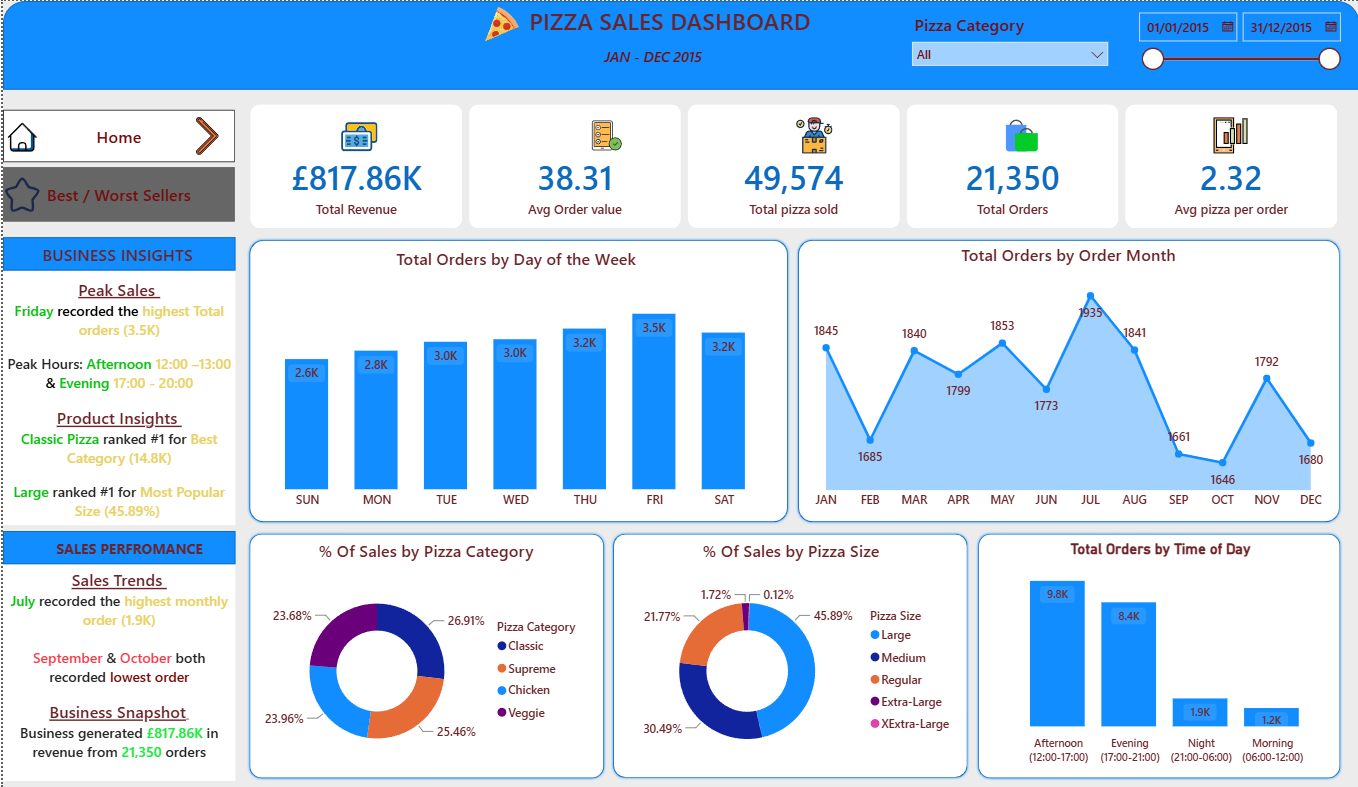

The dashboard page shown, as its layout file describes it:
{"tool":"powerbi","page":{"name":"Home","canvas":[1550,900],"ordinal":0},"visuals":[{"type":"cardVisual","fields":{"Data":["pizza_db pizza_sales.Total Revenue","pizza_db pizza_sales.Avg Order value","pizza_db pizza_sales.Total pizza sold","pizza_db pizza_sales.Total Orders","pizza_db pizza_sales.Avg pizza per order"]},"box":[265.7,101.4,1277.1,175.7],"z":0},{"type":"shape","box":[0,0,1550,101.4],"z":1000},{"type":"textbox","box":[570,0,384.3,47.1],"z":2000},{"type":"textbox","box":[662.9,47.1,160,37.1],"z":3000},{"type":"shape","box":[278.6,270,621.4,328.6],"z":4000},{"type":"columnChart","title":"Total Orders by Day of the Week","fields":{"Category":["pizza_db pizza_sales.Order day"],"Y":["pizza_db pizza_sales.Total Orders"]},"box":[285.7,281.4,601.4,308.6],"z":5000},{"type":"shape","box":[905.7,270,625,328.6],"z":6000},{"type":"areaChart","title":"Total Orders by Month","fields":{"Category":["pizza_db pizza_sales.Order Month"]},"box":[945.7,285.7,574.3,292.9],"z":7000},{"type":"shape","box":[278.6,605.7,411.4,285.7],"z":8000},{"type":"shape","box":[694.3,605.7,411,285],"z":9000},{"type":"shape","box":[1111.4,605.7,420,285.7],"z":10000},{"type":"donutChart","title":"% Of Sales by Pizza Category","fields":{"Category":["pizza_db pizza_sales.pizza_category"],"Y":["pizza_db pizza_sales.Total Revenue"]},"box":[285.7,615.7,395.7,264.3],"z":11000},{"type":"donutChart","title":"% Of Sales by Pizza Size","fields":{"Y":["pizza_db pizza_sales.Total Revenue"],"Category":["pizza_db pizza_sales.pizza_size"]},"box":[705.7,615.7,390,264.3],"z":12000},{"type":"slicer","fields":{"Values":["pizza_db pizza_sales.pizza_category"]},"box":[1028.6,10,244.3,75.7],"z":13000},{"type":"slicer","fields":{"Values":["pizza_db pizza_sales.order_date"]},"box":[1285.7,2.9,251.4,91.4],"z":14000},{"type":"image","box":[524.3,2.9,91.4,47.1],"z":15000},{"type":"image","box":[380,134.3,54,41.4],"z":16000},{"type":"image","box":[662.9,132.9,54,41.4],"z":17000},{"type":"image","box":[900,132.9,54.3,41.4],"z":18000},{"type":"image","box":[1137.1,132.9,54,41.4],"z":19000},{"type":"image","box":[1375.7,132.9,54,41.4],"z":20000},{"type":"areaChart","fields":{"Y":["pizza_db pizza_sales.Total Orders"],"Category":["pizza_db pizza_sales.Order Month"]},"box":[915.7,277.1,604.3,312.9],"z":21000},{"type":"columnChart","fields":{"Category":["pizza_db pizza_sales.Time of Day"],"Y":["pizza_db pizza_sales.Total Orders"]},"box":[1124.3,615.7,397.1,264.3],"z":22000},{"type":"pageNavigator","box":[0,124.3,265.7,60],"z":25007},{"type":"pageNavigator","box":[0,190,265.7,62],"z":25008},{"type":"shape","box":[0,270,265.7,38],"z":25009},{"type":"shape","box":[0,605.7,265.7,38],"z":25010},{"type":"textbox","box":[0,644.3,265.7,247.1],"z":25011},{"type":"textbox","box":[0,308.6,265.7,290],"z":25012},{"type":"textbox","box":[55.7,610,185.7,34.3],"z":25014},{"type":"textbox","box":[40,272.9,215.7,35.7],"z":25015},{"type":"image","box":[0,132.9,44,45],"z":25016},{"type":"image","box":[211.4,131.4,44,45],"z":25017},{"type":"image","box":[0,198.6,44,45],"z":25018}]}

Visuals, with their boxes in screenshot pixels (x1, y1, x2, y2), scaled from the page's 1550x900 canvas onto the 1358x787 screenshot:
cardVisual - pizza_db pizza_sales.Total Revenue x pizza_db pizza_sales.Avg Order value: (left=233, top=89, right=1352, bottom=242)
shape: (left=0, top=0, right=1357, bottom=89)
textbox: (left=499, top=0, right=836, bottom=41)
textbox: (left=581, top=41, right=721, bottom=74)
shape: (left=244, top=236, right=789, bottom=523)
"Total Orders by Day of the Week" columnChart: (left=250, top=246, right=777, bottom=516)
shape: (left=794, top=236, right=1341, bottom=523)
"Total Orders by Month" areaChart: (left=829, top=250, right=1332, bottom=506)
shape: (left=244, top=530, right=605, bottom=779)
shape: (left=608, top=530, right=968, bottom=779)
shape: (left=974, top=530, right=1342, bottom=779)
"% Of Sales by Pizza Category" donutChart: (left=250, top=538, right=597, bottom=770)
"% Of Sales by Pizza Size" donutChart: (left=618, top=538, right=960, bottom=770)
slicer - pizza_db pizza_sales.pizza_category: (left=901, top=9, right=1115, bottom=75)
slicer - pizza_db pizza_sales.order_date: (left=1126, top=3, right=1347, bottom=82)
image: (left=459, top=3, right=539, bottom=44)
image: (left=333, top=117, right=380, bottom=154)
image: (left=581, top=116, right=628, bottom=152)
image: (left=789, top=116, right=836, bottom=152)
image: (left=996, top=116, right=1044, bottom=152)
image: (left=1205, top=116, right=1253, bottom=152)
areaChart - pizza_db pizza_sales.Total Orders x pizza_db pizza_sales.Order Month: (left=802, top=242, right=1332, bottom=516)
columnChart - pizza_db pizza_sales.Time of Day x pizza_db pizza_sales.Total Orders: (left=985, top=538, right=1333, bottom=770)
pageNavigator: (left=0, top=109, right=233, bottom=161)
pageNavigator: (left=0, top=166, right=233, bottom=220)
shape: (left=0, top=236, right=233, bottom=269)
shape: (left=0, top=530, right=233, bottom=563)
textbox: (left=0, top=563, right=233, bottom=779)
textbox: (left=0, top=270, right=233, bottom=523)
textbox: (left=49, top=533, right=211, bottom=563)
textbox: (left=35, top=239, right=224, bottom=270)
image: (left=0, top=116, right=39, bottom=156)
image: (left=185, top=115, right=224, bottom=154)
image: (left=0, top=174, right=39, bottom=213)
